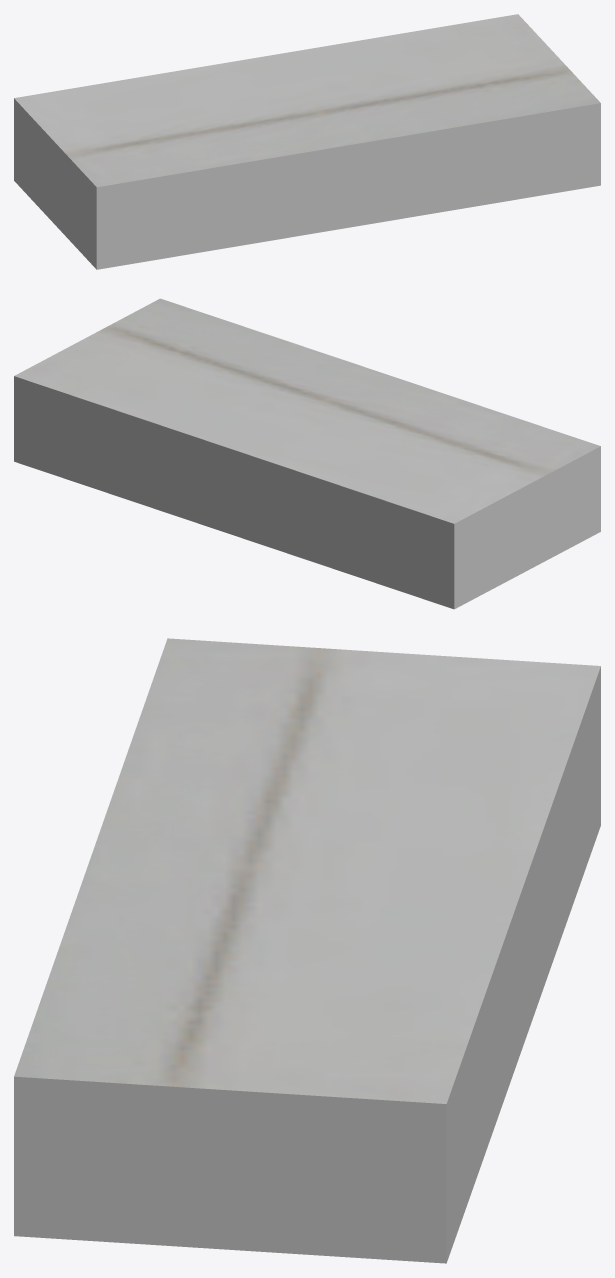
File: DEBW_0010007Tx6b.gltf
3 views of the same model, one above another, from view 1: azimuth 30°, elevation 25°; view 2: azimuth 150°, elevation 25°; view 3: azimuth 270°, elevation 25° (orthographic). The views are drawn at different scales.
Visible parts, largest first — view 1: Z_UP; view 2: Z_UP; view 3: Z_UP.
Boxes of the visible parts, x1,y1,x2,y2 form: Z_UP: [14, 14, 600, 269]; Z_UP: [14, 298, 600, 609]; Z_UP: [14, 638, 600, 1263].
Size of the model in its own units: 25.27 by 4.03 by 13.46.
2 materials, 1 textured.
